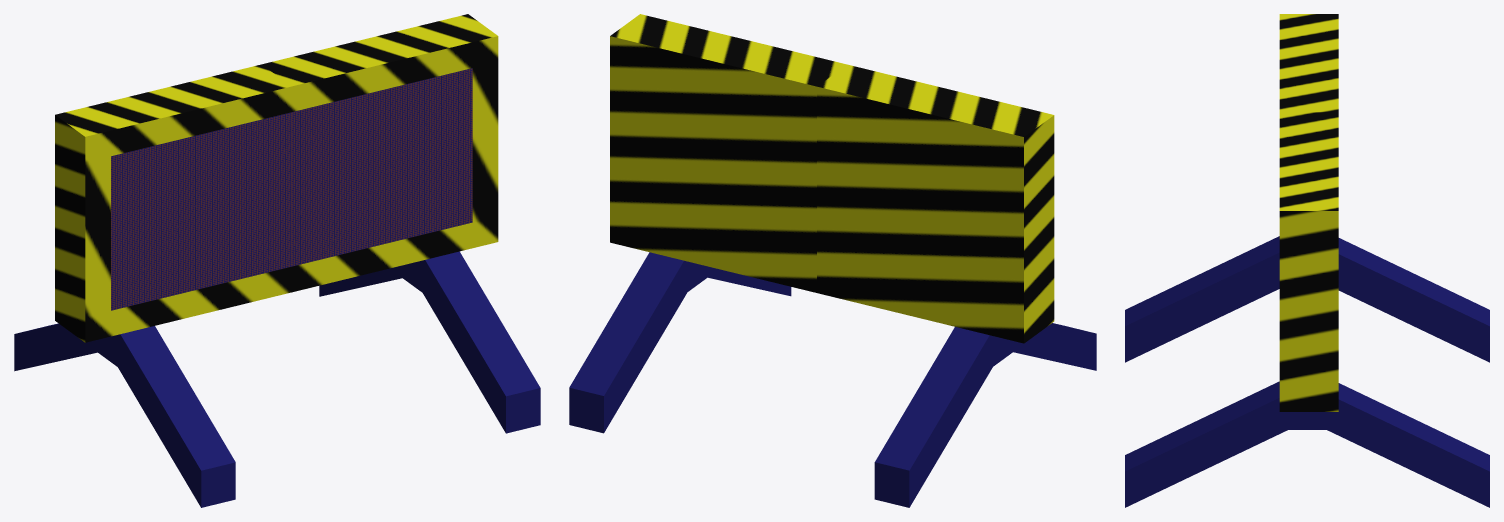
File: valla 2c.glb
The picture shows the model from 3 angles, left to right: view 1: azimuth 30°, elevation 25°; view 2: azimuth 150°, elevation 25°; view 3: azimuth 270°, elevation 25°; orthographic projection. The views are drawn at different scales.
Parts seen in each view (by area): view 1: valla 2c; view 2: valla 2c; view 3: valla 2c.
Boxes of the visible parts, left/top/right/bottom form: valla 2c: left=14, top=14, right=540, bottom=507; valla 2c: left=569, top=14, right=1096, bottom=507; valla 2c: left=1125, top=14, right=1489, bottom=507.
Size of the model in its own units: 2 by 1.49 by 1.57.
1 material, 1 textured.
